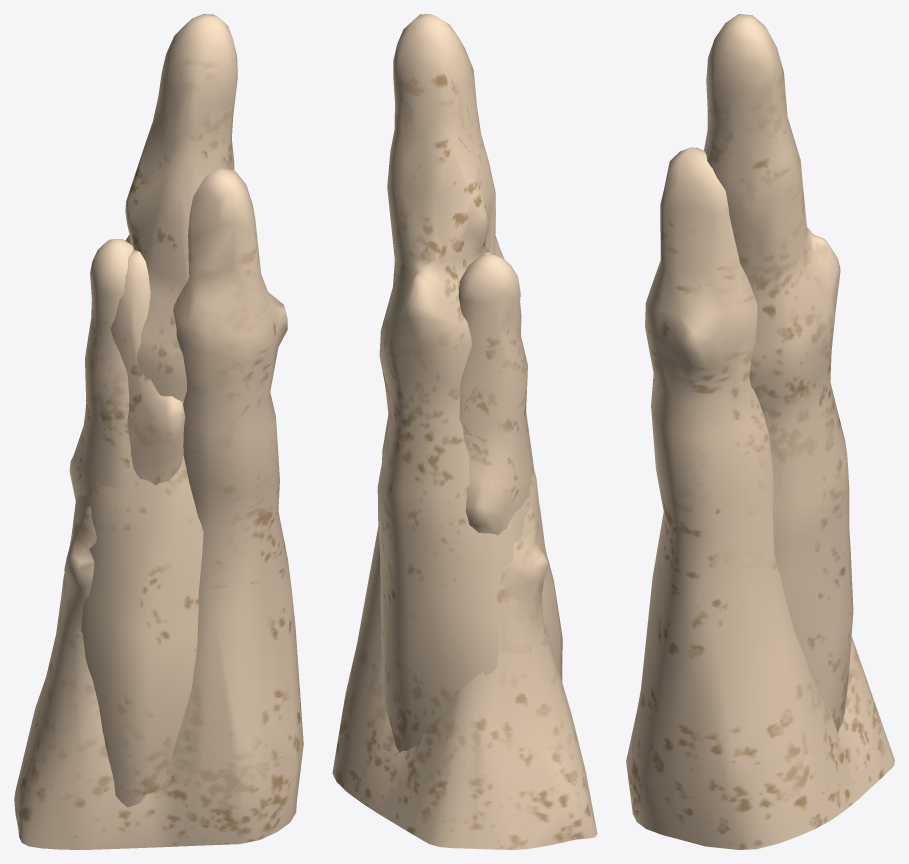
File: PillarCoral_group.fbx
3 views of the same model, side by side, from view 1: azimuth 30°, elevation 25°; view 2: azimuth 150°, elevation 25°; view 3: azimuth 270°, elevation 25° (orthographic). The views are drawn at different scales.
Visible parts, largest first — view 1: pillarCoral_a_final, pillarCoral_f_final, pillarCoral_b_final, pillarCoral_g_final; view 2: pillarCoral_f_final, pillarCoral_a_final, pillarCoral_b_final; view 3: pillarCoral_a_final, pillarCoral_f_final.
Boxes of the visible parts, x1,y1,x2,y2 form: pillarCoral_a_final: (14, 168, 303, 849); pillarCoral_f_final: (59, 14, 237, 807); pillarCoral_b_final: (69, 239, 133, 501); pillarCoral_g_final: (110, 250, 185, 485); pillarCoral_f_final: (377, 14, 562, 752); pillarCoral_a_final: (332, 235, 597, 849); pillarCoral_b_final: (458, 253, 533, 535); pillarCoral_a_final: (626, 147, 894, 849); pillarCoral_f_final: (704, 14, 853, 734).
Size of the model in its own units: 0.7799 by 2.25 by 0.682.
